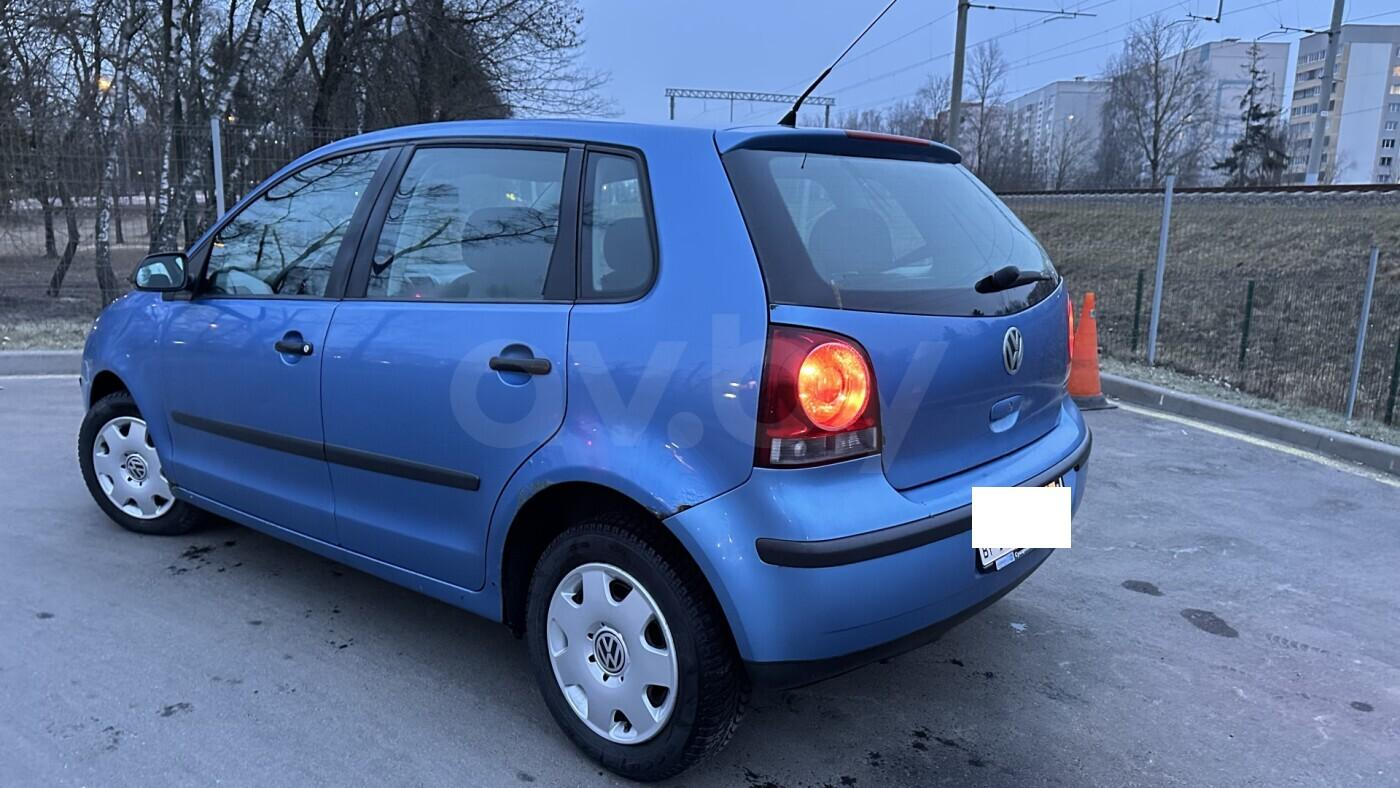Polo_2005-2009: (73, 90, 1122, 788)
